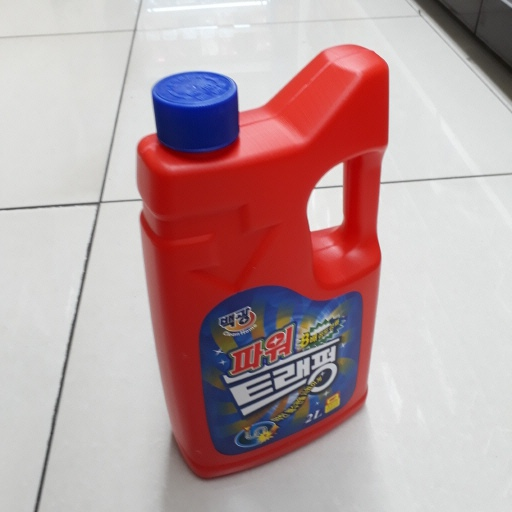Plastic_1: (134, 44, 390, 475)
